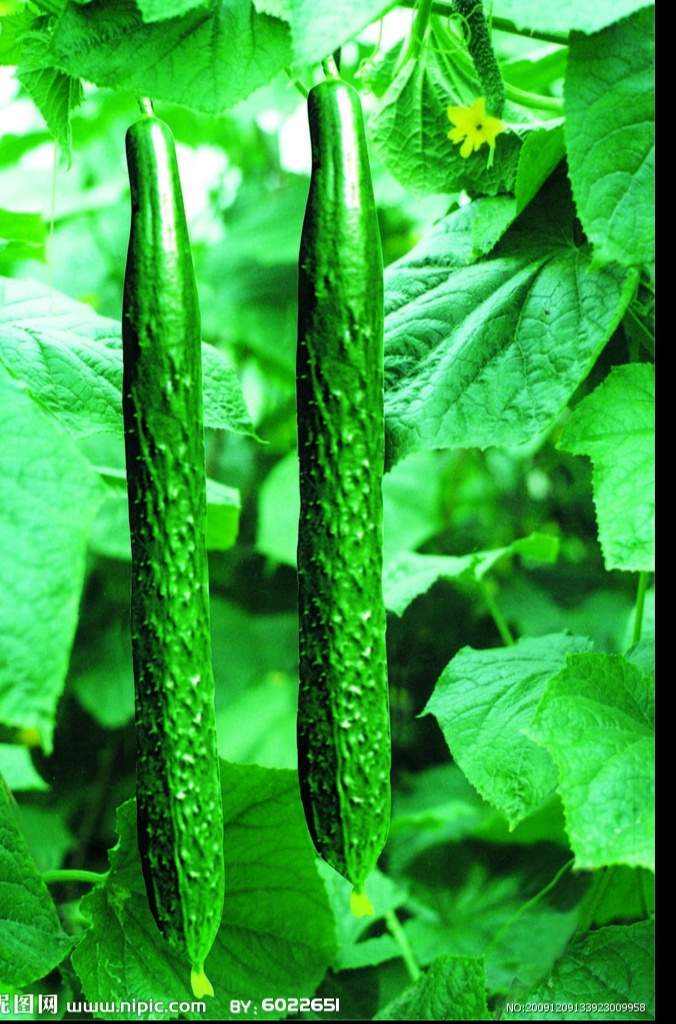cucumber: (122, 119, 232, 974), (294, 79, 400, 895)
cucumber_plant: (403, 38, 643, 429)
